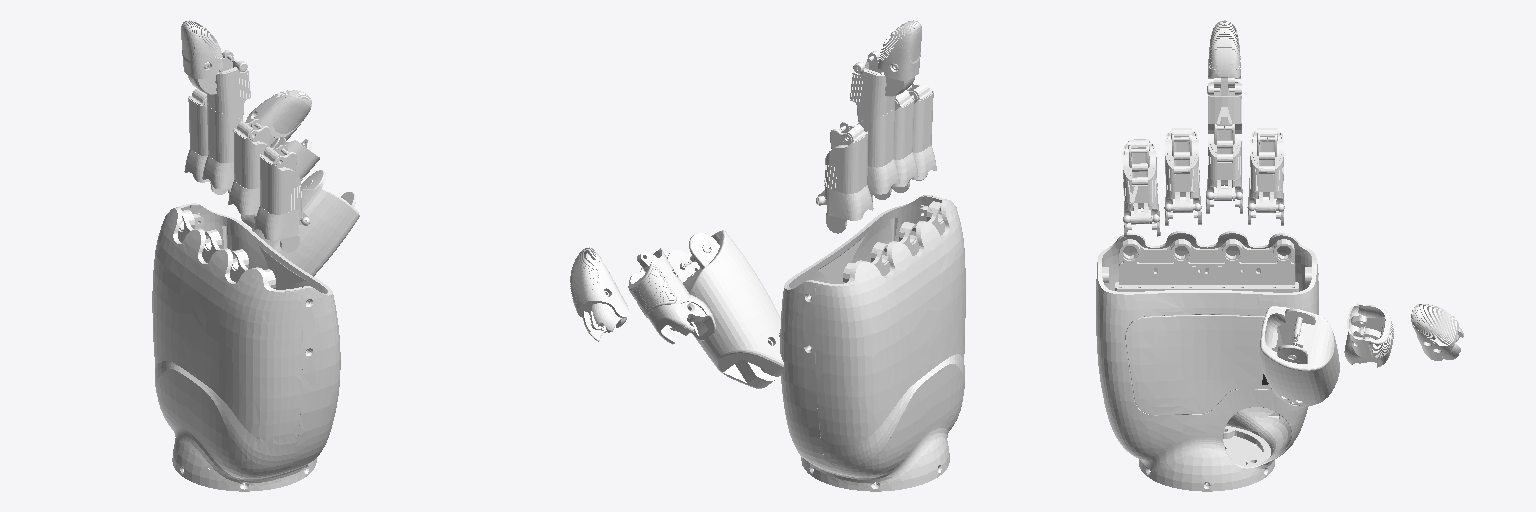
robot.urdf — linkerhand_o7_1_right.urdf:
<?xml version="1.0" encoding="utf-8"?>
<!-- This URDF was automatically created by SolidWorks to URDF Exporter! Originally created by [author] ([email redacted]) 
     Commit Version: 1.6.0-4-g7f85cfe  Build Version: 1.6.7995.38578
     For more information, please see http://wiki.ros.org/sw_urdf_exporter -->
<robot
  name="linkerhand_o7_1_right.urdf">
  <link
    name="hand_base_link">
    <inertial>
      <origin
        xyz="-0.00424649751371995 -0.000862887416275456 0.0748471792869467"
        rpy="0 0 0" />
      <mass
        value="0.224993676691102" />
      <inertia
        ixx="0.000307116186491815"
        ixy="2.61659725445651E-06"
        ixz="-6.32446998312666E-06"
        iyy="0.000204938622467429"
        iyz="-3.62127144044683E-06"
        izz="0.000138468169689365" />
    </inertial>
    <visual>
      <origin
        xyz="0 0 0"
        rpy="0 0 0" />
      <geometry>
        <mesh
          filename="meshes/hand_base_link.STL" />
      </geometry>
      <material
        name="">
        <color
          rgba="1 1 1 1" />
      </material>
    </visual>
    <collision>
      <origin
        xyz="0 0 0"
        rpy="0 0 0" />
      <geometry>
        <mesh
          filename="meshes/hand_base_link.STL" />
      </geometry>
    </collision>
  </link>
  <link
    name="thumb_metacarpals_base1">
    <inertial>
      <origin
        xyz="0.0221879177257061 9.4967413269316E-06 -0.00324810095386431"
        rpy="0 0 0" />
      <mass
        value="0.0115249134895388" />
      <inertia
        ixx="3.08667102562358E-06"
        ixy="-2.45862059608496E-09"
        ixz="3.13556912700589E-07"
        iyy="4.3709812224308E-06"
        iyz="-1.09530666159332E-09"
        izz="1.95667196495585E-06" />
    </inertial>
    <visual>
      <origin
        xyz="0 0 0"
        rpy="0 0 0" />
      <geometry>
        <mesh
          filename="meshes/thumb_metacarpals_base1.STL" />
      </geometry>
      <material
        name="">
        <color
          rgba="0.4 0.4 0.4 1" />
      </material>
    </visual>
    <collision>
      <origin
        xyz="0 0 0"
        rpy="0 0 0" />
      <geometry>
        <mesh
          filename="meshes/thumb_metacarpals_base1.STL" />
      </geometry>
    </collision>
  </link>
  <joint
    name="thumb_cmc_roll"
    type="revolute">
    <origin
      xyz="-0.016939 0.018427 0.057465"
      rpy="0 0 0" />
    <parent
      link="hand_base_link" />
    <child
      link="thumb_metacarpals_base1" />
    <axis
      xyz="-1 0 0" />
    <limit
      lower="-0.785"
      upper="0.785"
      effort="100"
      velocity="1" />
  </joint>
  <link
    name="thumb_metacarpals_base2">
    <inertial>
      <origin
        xyz="0.000657101787937486 0.00104851154234433 -0.00113956081948991"
        rpy="0 0 0" />
      <mass
        value="0.01940166650745" />
      <inertia
        ixx="3.11012438785897E-06"
        ixy="-7.0034651782409E-07"
        ixz="-3.44895601987918E-08"
        iyy="2.43367257868183E-06"
        iyz="-5.59175765565545E-08"
        izz="2.77701874779203E-06" />
    </inertial>
    <visual>
      <origin
        xyz="0 0 0"
        rpy="0 0 0" />
      <geometry>
        <mesh
          filename="meshes/thumb_metacarpals_base2.STL" />
      </geometry>
      <material
        name="">
        <color
          rgba="0.4 0.4 0.4 1" />
      </material>
    </visual>
    <collision>
      <origin
        xyz="0 0 0"
        rpy="0 0 0" />
      <geometry>
        <mesh
          filename="meshes/thumb_metacarpals_base2.STL" />
      </geometry>
    </collision>
  </link>
  <joint
    name="thumb_cmc_yaw"
    type="revolute">
    <origin
      xyz="0.0293 0 0.0020117"
      rpy="0 0 0" />
    <parent
      link="thumb_metacarpals_base1" />
    <child
      link="thumb_metacarpals_base2" />
    <axis
      xyz="0 0 -1" />
    <limit
      lower="0"
      upper="1.57"
      effort="100"
      velocity="1" />
  </joint>
  <link
    name="thumb_metacarpals">
    <inertial>
      <origin
        xyz="0.00175933658915796 -5.96504126060375E-05 0.0251801046994234"
        rpy="0 0 0" />
      <mass
        value="0.0177521108657244" />
      <inertia
        ixx="2.97617104670385E-06"
        ixy="1.85044369912824E-10"
        ixz="8.88003468597959E-08"
        iyy="4.02115700293481E-06"
        iyz="4.92419253103346E-10"
        izz="1.61792154263255E-06" />
    </inertial>
    <visual>
      <origin
        xyz="0 0 0"
        rpy="0 0 0" />
      <geometry>
        <mesh
          filename="meshes/thumb_metacarpals.STL" />
      </geometry>
      <material
        name="">
        <color
          rgba="1 1 1 1" />
      </material>
    </visual>
    <collision>
      <origin
        xyz="0 0 0"
        rpy="0 0 0" />
      <geometry>
        <mesh
          filename="meshes/thumb_metacarpals.STL" />
      </geometry>
    </collision>
  </link>
  <joint
    name="thumb_cmc_pitch"
    type="revolute">
    <origin
      xyz="0.01535 0.024288 -0.0034929"
      rpy="0 -1.1075 -2.1313" />
    <parent
      link="thumb_metacarpals_base2" />
    <child
      link="thumb_metacarpals" />
    <axis
      xyz="0 1 0" />
    <limit
      lower="0"
      upper="0.5285"
      effort="100"
      velocity="1" />
  </joint>
  <link
    name="thumb_proximal">
    <inertial>
      <origin
        xyz="-0.000134526311852616 6.07660660935025E-06 0.0155657696459344"
        rpy="0 0 0" />
      <mass
        value="0.00522318738806682" />
      <inertia
        ixx="9.25274247600393E-07"
        ixy="-1.65401508753502E-11"
        ixz="1.11609876915452E-07"
        iyy="8.23287363248585E-07"
        iyz="5.43302131881219E-11"
        izz="4.09241239147395E-07" />
    </inertial>
    <visual>
      <origin
        xyz="0 0 0"
        rpy="0 0 0" />
      <geometry>
        <mesh
          filename="meshes/thumb_proximal.STL" />
      </geometry>
      <material
        name="">
        <color
          rgba="1 1 1 1" />
      </material>
    </visual>
    <collision>
      <origin
        xyz="0 0 0"
        rpy="0 0 0" />
      <geometry>
        <mesh
          filename="meshes/thumb_proximal.STL" />
      </geometry>
    </collision>
  </link>
  <joint
    name="thumb_mcp"
    type="revolute">
    <origin
      xyz="0.0049422 0 0.050268"
      rpy="0 0 0" />
    <parent
      link="thumb_metacarpals" />
    <child
      link="thumb_proximal" />
    <axis
      xyz="0 1 0" />
    <limit
      lower="0"
      upper="1.186"
      effort="100"
      velocity="1" />
    <mimic
      joint="thumb_cmc_pitch"
      multiplier="2.24"
      offset="0" />
  </joint>
  <link
    name="thumb_distal">
    <inertial>
      <origin
        xyz="-0.00128308035650056 -8.24642944257173E-06 0.0121298668147546"
        rpy="0 0 0" />
      <mass
        value="0.00599292590405824" />
      <inertia
        ixx="3.54987794133438E-07"
        ixy="-2.17906247389587E-10"
        ixz="1.02717341851269E-07"
        iyy="3.68409426963011E-07"
        iyz="-7.13047316865665E-11"
        izz="2.80231280919996E-07" />
    </inertial>
    <visual>
      <origin
        xyz="0 0 0"
        rpy="0 0 0" />
      <geometry>
        <mesh
          filename="meshes/thumb_distal.STL" />
      </geometry>
      <material
        name="">
        <color
          rgba="1 1 1 1" />
      </material>
    </visual>
    <collision>
      <origin
        xyz="0 0 0"
        rpy="0 0 0" />
      <geometry>
        <mesh
          filename="meshes/thumb_distal.STL" />
      </geometry>
    </collision>
  </link>
  <joint
    name="thumb_ip"
    type="revolute">
    <origin
      xyz="-0.0040391 0 0.036444"
      rpy="0 0 0" />
    <parent
      link="thumb_proximal" />
    <child
      link="thumb_distal" />
    <axis
      xyz="0 1 0" />
    <limit
      lower="0"
      upper="1.256"
      effort="100"
      velocity="1" />
    <mimic
      joint="thumb_mcp"
      multiplier="1.0625"
      offset="0" />
  </joint>
  <link
    name="index_proximal">
    <inertial>
      <origin
        xyz="-0.0032518064346344 5.73435595726795E-05 0.0195194781444541"
        rpy="0 0 0" />
      <mass
        value="0.00304916039909536" />
      <inertia
        ixx="2.70564868706054E-07"
        ixy="-4.09152820952322E-10"
        ixz="3.98597505804528E-08"
        iyy="2.61418458298347E-07"
        iyz="-1.28012336147491E-09"
        izz="1.4321431670118E-07" />
    </inertial>
    <visual>
      <origin
        xyz="0 0 0"
        rpy="0 0 0" />
      <geometry>
        <mesh
          filename="meshes/index_proximal.STL" />
      </geometry>
      <material
        name="">
        <color
          rgba="1 1 1 1" />
      </material>
    </visual>
    <collision>
      <origin
        xyz="0 0 0"
        rpy="0 0 0" />
      <geometry>
        <mesh
          filename="meshes/index_proximal.STL" />
      </geometry>
    </collision>
  </link>
  <joint
    name="index_mcp_pitch"
    type="revolute">
    <origin
      xyz="-0.0010899 0.027484 0.1273"
      rpy="-0.017453 0 0" />
    <parent
      link="hand_base_link" />
    <child
      link="index_proximal" />
    <axis
      xyz="0 1 0" />
    <limit
      lower="0"
      upper="1.325"
      effort="100"
      velocity="1" />
  </joint>
  <link
    name="index_middle">
    <inertial>
      <origin
        xyz="-0.00220167909176389 -0.000343531073618132 0.0115244069143184"
        rpy="0 0 0" />
      <mass
        value="0.00325825848442436" />
      <inertia
        ixx="2.8490415059528E-07"
        ixy="1.91239904551334E-09"
        ixz="4.46237082998526E-08"
        iyy="2.60287200116906E-07"
        iyz="-4.72652523980715E-09"
        izz="1.33239580887688E-07" />
    </inertial>
    <visual>
      <origin
        xyz="0 0 0"
        rpy="0 0 0" />
      <geometry>
        <mesh
          filename="meshes/index_middle.STL" />
      </geometry>
      <material
        name="">
        <color
          rgba="1 1 1 1" />
      </material>
    </visual>
    <collision>
      <origin
        xyz="0 0 0"
        rpy="0 0 0" />
      <geometry>
        <mesh
          filename="meshes/index_middle.STL" />
      </geometry>
    </collision>
  </link>
  <joint
    name="index_pip"
    type="revolute">
    <origin
      xyz="-0.0033727 0 0.03351"
      rpy="0 0 0" />
    <parent
      link="index_proximal" />
    <child
      link="index_middle" />
    <axis
      xyz="0 1 0" />
    <limit
      lower="0"
      upper="1.57"
      effort="100"
      velocity="1" />
    <mimic
      joint="index_mcp_pitch"
      multiplier="1.18"
      offset="0" />
  </joint>
  <link
    name="index_distal">
    <inertial>
      <origin
        xyz="0.000205003552135347 -5.00639376030902E-05 0.0116644517439974"
        rpy="0 0 0" />
      <mass
        value="0.00386935492598895" />
      <inertia
        ixx="2.13117220171242E-07"
        ixy="4.48302439305257E-10"
        ixz="4.32406381764883E-08"
        iyy="2.07111508255759E-07"
        iyz="-3.01875998154566E-09"
        izz="1.20303603749287E-07" />
    </inertial>
    <visual>
      <origin
        xyz="0 0 0"
        rpy="0 0 0" />
      <geometry>
        <mesh
          filename="meshes/index_distal.STL" />
      </geometry>
      <material
        name="">
        <color
          rgba="1 1 1 1" />
      </material>
    </visual>
    <collision>
      <origin
        xyz="0 0 0"
        rpy="0 0 0" />
      <geometry>
        <mesh
          filename="meshes/index_distal.STL" />
      </geometry>
    </collision>
  </link>
  <joint
    name="index_dip"
    type="revolute">
    <origin
      xyz="-0.0050438 0 0.025752"
      rpy="0 0 0" />
    <parent
      link="index_middle" />
    <child
      link="index_distal" />
    <axis
      xyz="0 1 0" />
    <limit
      lower="0"
      upper="1"
      effort="100"
      velocity="1" />
    <mimic
      joint="index_pip"
      multiplier="0.635"
      offset="0" />
  </joint>
  <link
    name="middle_proximal">
    <inertial>
      <origin
        xyz="-0.00325183237058274 5.73145378753642E-05 0.0195196141000392"
        rpy="0 0 0" />
      <mass
        value="0.00304913798747595" />
      <inertia
        ixx="2.70557098970273E-07"
        ixy="-4.08865696672332E-10"
        ixz="3.98586221422375E-08"
        iyy="2.61411279054861E-07"
        iyz="-1.28207051883436E-09"
        izz="1.43213885368697E-07" />
    </inertial>
    <visual>
      <origin
        xyz="0 0 0"
        rpy="0 0 0" />
      <geometry>
        <mesh
          filename="meshes/middle_proximal.STL" />
      </geometry>
      <material
        name="">
        <color
          rgba="1 1 1 1" />
      </material>
    </visual>
    <collision>
      <origin
        xyz="0 0 0"
        rpy="0 0 0" />
      <geometry>
        <mesh
          filename="meshes/middle_proximal.STL" />
      </geometry>
    </collision>
  </link>
  <joint
    name="middle_mcp_pitch"
    type="revolute">
    <origin
      xyz="-0.0030759 0.0081771 0.1323"
      rpy="0 0 0" />
    <parent
      link="hand_base_link" />
    <child
      link="middle_proximal" />
    <axis
      xyz="0 1 0" />
    <limit
      lower="0"
      upper="1.325"
      effort="100"
      velocity="1" />
  </joint>
  <link
    name="middle_middle">
    <inertial>
      <origin
        xyz="-0.0022016810859708 -0.00034353700371422 0.0115244012272034"
        rpy="0 0 0" />
      <mass
        value="0.00325825654598412" />
      <inertia
        ixx="2.84904020576023E-07"
        ixy="1.91233621961464E-09"
        ixz="4.46236745273724E-08"
        iyy="2.60287132912749E-07"
        iyz="-4.72641985986877E-09"
        izz="1.33239489502427E-07" />
    </inertial>
    <visual>
      <origin
        xyz="0 0 0"
        rpy="0 0 0" />
      <geometry>
        <mesh
          filename="meshes/middle_middle.STL" />
      </geometry>
      <material
        name="">
        <color
          rgba="1 1 1 1" />
      </material>
    </visual>
    <collision>
      <origin
        xyz="0 0 0"
        rpy="0 0 0" />
      <geometry>
        <mesh
          filename="meshes/middle_middle.STL" />
      </geometry>
    </collision>
  </link>
  <joint
    name="middle_pip"
    type="revolute">
    <origin
      xyz="-0.0033727 0 0.03351"
      rpy="0 0 0" />
    <parent
      link="middle_proximal" />
    <child
      link="middle_middle" />
    <axis
      xyz="0 1 0" />
    <limit
      lower="0"
      upper="1.57"
      effort="100"
      velocity="1" />
    <mimic
      joint="middle_mcp_pitch"
      multiplier="1.18"
      offset="0" />
  </joint>
  <link
    name="middle_distal">
    <inertial>
      <origin
        xyz="0.000205019804226589 -5.00611866558441E-05 0.0116644192481372"
        rpy="0 0 0" />
      <mass
        value="0.00386934334877093" />
      <inertia
        ixx="2.13115752186946E-07"
        ixy="4.483082159401E-10"
        ixz="4.32401705352848E-08"
        iyy="2.07109947925868E-07"
        iyz="-3.01874595073253E-09"
        izz="1.20303477712343E-07" />
    </inertial>
    <visual>
      <origin
        xyz="0 0 0"
        rpy="0 0 0" />
      <geometry>
        <mesh
          filename="meshes/middle_distal.STL" />
      </geometry>
      <material
        name="">
        <color
          rgba="1 1 1 1" />
      </material>
    </visual>
    <collision>
      <origin
        xyz="0 0 0"
        rpy="0 0 0" />
      <geometry>
        <mesh
          filename="meshes/middle_distal.STL" />
      </geometry>
    </collision>
  </link>
  <joint
    name="middle_dip"
    type="revolute">
    <origin
      xyz="-0.0050438 0 0.025752"
      rpy="0 0 0" />
    <parent
      link="middle_middle" />
    <child
      link="middle_distal" />
    <axis
      xyz="0 1 0" />
    <limit
      lower="0"
      upper="1"
      effort="100"
      velocity="1" />
    <mimic
      joint="middle_pip"
      multiplier="0.635"
      offset="0" />
  </joint>
  <link
    name="ring_proximal">
    <inertial>
      <origin
        xyz="-0.00325186150336549 5.72819703951039E-05 0.0195197725001552"
        rpy="0 0 0" />
      <mass
        value="0.00304911330763648" />
      <inertia
        ixx="2.70548036735914E-07"
        ixy="-4.0855911209404E-10"
        ixz="3.98573112742051E-08"
        iyy="2.61402871079389E-07"
        iyz="-1.28432896400596E-09"
        izz="1.43213406344549E-07" />
    </inertial>
    <visual>
      <origin
        xyz="0 0 0"
        rpy="0 0 0" />
      <geometry>
        <mesh
          filename="meshes/ring_proximal.STL" />
      </geometry>
      <material
        name="">
        <color
          rgba="1 1 1 1" />
      </material>
    </visual>
    <collision>
      <origin
        xyz="0 0 0"
        rpy="0 0 0" />
      <geometry>
        <mesh
          filename="meshes/ring_proximal.STL" />
      </geometry>
    </collision>
  </link>
  <joint
    name="ring_mcp_pitch"
    type="revolute">
    <origin
      xyz="-0.0010899 -0.01113 0.1273"
      rpy="0.017453 0 0" />
    <parent
      link="hand_base_link" />
    <child
      link="ring_proximal" />
    <axis
      xyz="0 1 0" />
    <limit
      lower="0"
      upper="1.325"
      effort="100"
      velocity="1" />
  </joint>
  <link
    name="ring_mcp_pitch">
    <inertial>
      <origin
        xyz="-0.00220167993906391 -0.000343532631468264 0.011524404583006"
        rpy="0 0 0" />
      <mass
        value="0.00325825753654453" />
      <inertia
        ixx="2.84904089242319E-07"
        ixy="1.91238364678801E-09"
        ixz="4.46236943743486E-08"
        iyy="2.60287163833731E-07"
        iyz="-4.72650146753522E-09"
        izz="1.3323953829297E-07" />
    </inertial>
    <visual>
      <origin
        xyz="0 0 0"
        rpy="0 0 0" />
      <geometry>
        <mesh
          filename="meshes/ring_mcp_pitch.STL" />
      </geometry>
      <material
        name="">
        <color
          rgba="1 1 1 1" />
      </material>
    </visual>
    <collision>
      <origin
        xyz="0 0 0"
        rpy="0 0 0" />
      <geometry>
        <mesh
          filename="meshes/ring_mcp_pitch.STL" />
      </geometry>
    </collision>
  </link>
  <joint
    name="ring_pip"
    type="revolute">
    <origin
      xyz="-0.0033727 0 0.03351"
      rpy="0 0 0" />
    <parent
      link="ring_proximal" />
    <child
      link="ring_mcp_pitch" />
    <axis
      xyz="0 1 0" />
    <limit
      lower="0"
      upper="1.57"
      effort="100"
      velocity="1" />
    <mimic
      joint="ring_mcp_pitch"
      multiplier="1.18"
      offset="0" />
  </joint>
  <link
    name="ring_distal">
    <inertial>
      <origin
        xyz="0.00020502111953178 -5.00522555418534E-05 0.0116644140374793"
        rpy="0 0 0" />
      <mass
        value="0.00386934281745255" />
      <inertia
        ixx="2.13115701445735E-07"
        ixy="4.48456879916902E-10"
        ixz="4.32401093546838E-08"
        iyy="2.0710990229611E-07"
        iyz="-3.01905597511279E-09"
        izz="1.20303442468631E-07" />
    </inertial>
    <visual>
      <origin
        xyz="0 0 0"
        rpy="0 0 0" />
      <geometry>
        <mesh
          filename="meshes/ring_distal.STL" />
      </geometry>
      <material
        name="">
        <color
          rgba="1 1 1 1" />
      </material>
    </visual>
    <collision>
      <origin
        xyz="0 0 0"
        rpy="0 0 0" />
      <geometry>
        <mesh
          filename="meshes/ring_distal.STL" />
      </geometry>
    </collision>
  </link>
  <joint
    name="ring_dip"
    type="revolute">
    <origin
      xyz="-0.0050438 0 0.025752"
      rpy="0 0 0" />
    <parent
      link="ring_mcp_pitch" />
    <child
      link="ring_distal" />
    <axis
      xyz="0 1 0" />
    <limit
      lower="0"
      upper="1"
      effort="100"
      velocity="1" />
    <mimic
      joint="ring_pip"
      multiplier="0.635"
      offset="0" />
  </joint>
  <link
    name="pinky_proximal">
    <inertial>
      <origin
        xyz="-0.00325186921802022 5.72691083807614E-05 0.0195198130359342"
        rpy="0 0 0" />
      <mass
        value="0.00304910473315458" />
      <inertia
        ixx="2.70545040885575E-07"
        ixy="-4.08564381291383E-10"
        ixz="3.98567341619965E-08"
        iyy="2.61399944340109E-07"
        iyz="-1.28504081306415E-09"
        izz="1.4321321936584E-07" />
    </inertial>
    <visual>
      <origin
        xyz="0 0 0"
        rpy="0 0 0" />
      <geometry>
        <mesh
          filename="meshes/pinky_proximal.STL" />
      </geometry>
      <material
        name="">
        <color
          rgba="1 1 1 1" />
      </material>
    </visual>
    <collision>
      <origin
        xyz="0 0 0"
        rpy="0 0 0" />
      <geometry>
        <mesh
          filename="meshes/pinky_proximal.STL" />
      </geometry>
    </collision>
  </link>
  <joint
    name="pinky_mcp_pitch"
    type="revolute">
    <origin
      xyz="0.00091015 -0.030436 0.12229"
      rpy="0.034907 0 0" />
    <parent
      link="hand_base_link" />
    <child
      link="pinky_proximal" />
    <axis
      xyz="0 1 0" />
    <limit
      lower="0"
      upper="1.325"
      effort="100"
      velocity="1" />
  </joint>
  <link
    name="pinky_middle">
    <inertial>
      <origin
        xyz="-0.00220167997180173 -0.000343532680715256 0.0115244045011695"
        rpy="0 0 0" />
      <mass
        value="0.00325825750127338" />
      <inertia
        ixx="2.84904087000571E-07"
        ixy="1.91238317094318E-09"
        ixz="4.46236937859625E-08"
        iyy="2.6028716260635E-07"
        iyz="-4.72650084572289E-09"
        izz="1.33239536763419E-07" />
    </inertial>
    <visual>
      <origin
        xyz="0 0 0"
        rpy="0 0 0" />
      <geometry>
        <mesh
          filename="meshes/pinky_middle.STL" />
      </geometry>
      <material
        name="">
        <color
          rgba="1 1 1 1" />
      </material>
    </visual>
    <collision>
      <origin
        xyz="0 0 0"
        rpy="0 0 0" />
      <geometry>
        <mesh
          filename="meshes/pinky_middle.STL" />
      </geometry>
    </collision>
  </link>
  <joint
    name="pinky_pip"
    type="revolute">
    <origin
      xyz="-0.0033727 0 0.03351"
      rpy="0 0 0" />
    <parent
      link="pinky_proximal" />
    <child
      link="pinky_middle" />
    <axis
      xyz="0 1 0" />
    <limit
      lower="0"
      upper="1.57"
      effort="100"
      velocity="1" />
    <mimic
      joint="pinky_mcp_pitch"
      multiplier="1.18"
      offset="0" />
  </joint>
  <link
    name="pinky_distal">
    <inertial>
      <origin
        xyz="0.000205019995453311 -5.00474199050527E-05 0.0116644190987234"
        rpy="0 0 0" />
      <mass
        value="0.003869344054523" />
      <inertia
        ixx="2.13115672247707E-07"
        ixy="4.48523985073532E-10"
        ixz="4.32401598937007E-08"
        iyy="2.07109969850292E-07"
        iyz="-3.01932182317644E-09"
        izz="1.20303468559217E-07" />
    </inertial>
    <visual>
      <origin
        xyz="0 0 0"
        rpy="0 0 0" />
      <geometry>
        <mesh
          filename="meshes/pinky_distal.STL" />
      </geometry>
      <material
        name="">
        <color
          rgba="1 1 1 1" />
      </material>
    </visual>
    <collision>
      <origin
        xyz="0 0 0"
        rpy="0 0 0" />
      <geometry>
        <mesh
          filename="meshes/pinky_distal.STL" />
      </geometry>
    </collision>
  </link>
  <joint
    name="pinky_dip"
    type="revolute">
    <origin
      xyz="-0.0050438 0 0.025752"
      rpy="0 0 0" />
    <parent
      link="pinky_middle" />
    <child
      link="pinky_distal" />
    <axis
      xyz="0 1 0" />
    <limit
      lower="0"
      upper="1"
      effort="100"
      velocity="1" />
    <mimic
      joint="pinky_pip"
      multiplier="0.635"
      offset="0" />
  </joint>
</robot>

--- Render facts (derived) ---
The picture shows the robot from 3 angles, left to right: view 1: azimuth 30°, elevation 25°; view 2: azimuth 150°, elevation 25°; view 3: azimuth 270°, elevation 25°; orthographic projection.
Robot: linkerhand_o7_1_right.urdf — 18 links, 17 joints (17 revolute); root link hand_base_link; default pose: all joints at 0.
Links seen in each view (by area): view 1: hand_base_link, thumb_metacarpals, pinky_proximal, ring_proximal, middle_distal, middle_proximal, thumb_distal, middle_middle, index_proximal, thumb_proximal; view 2: hand_base_link, thumb_metacarpals, thumb_proximal, index_proximal, thumb_distal, middle_distal, middle_proximal, middle_middle, pinky_proximal, ring_proximal; view 3: hand_base_link, thumb_metacarpals, pinky_proximal, ring_proximal, index_proximal, middle_proximal, thumb_proximal, thumb_distal, middle_distal, middle_middle.
Boxes of the visible links, bbox=[...] form: hand_base_link: bbox=[152, 203, 340, 491]; thumb_metacarpals: bbox=[252, 170, 359, 276]; pinky_proximal: bbox=[254, 145, 309, 252]; ring_proximal: bbox=[228, 119, 270, 220]; middle_distal: bbox=[181, 20, 223, 94]; middle_proximal: bbox=[202, 105, 243, 195]; thumb_distal: bbox=[245, 90, 311, 145]; middle_middle: bbox=[207, 50, 250, 128]; index_proximal: bbox=[184, 89, 227, 194]; thumb_proximal: bbox=[241, 137, 319, 228]; hand_base_link: bbox=[780, 195, 965, 491]; thumb_metacarpals: bbox=[667, 230, 783, 388]; thumb_proximal: bbox=[628, 248, 715, 344]; index_proximal: bbox=[816, 122, 873, 233]; thumb_distal: bbox=[570, 247, 628, 341]; middle_distal: bbox=[878, 20, 921, 96]; middle_proximal: bbox=[857, 107, 899, 201]; middle_middle: bbox=[850, 51, 895, 133]; pinky_proximal: bbox=[892, 82, 936, 192]; ring_proximal: bbox=[873, 90, 918, 199]; hand_base_link: bbox=[1096, 231, 1318, 491]; thumb_metacarpals: bbox=[1260, 306, 1339, 407]; pinky_proximal: bbox=[1122, 139, 1160, 237]; ring_proximal: bbox=[1164, 128, 1201, 225]; index_proximal: bbox=[1247, 128, 1284, 225]; middle_proximal: bbox=[1206, 124, 1242, 213]; thumb_proximal: bbox=[1344, 303, 1393, 367]; thumb_distal: bbox=[1411, 304, 1463, 360]; middle_distal: bbox=[1208, 20, 1240, 95]; middle_middle: bbox=[1207, 81, 1241, 133].
Size in the robot's own frame: 0.1232 by 0.1722 by 0.2169 metres.
12 mesh visuals loaded from 18 distinct referenced files (12 binary STL); not drawn: 6 (reference not matched to a file when rendering).